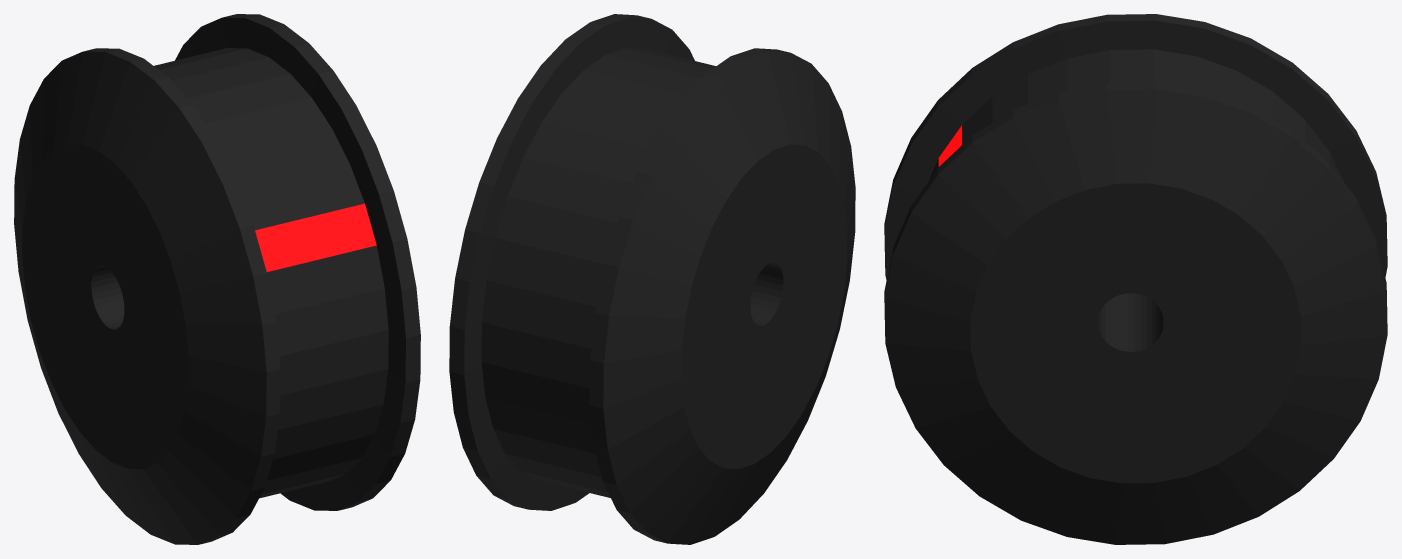
File: FFFF.fbx
The picture shows the model from 3 angles, left to right: view 1: azimuth 30°, elevation 25°; view 2: azimuth 150°, elevation 25°; view 3: azimuth 270°, elevation 25°; orthographic projection.
Visible parts, largest first — view 1: ElectricalPanel_Switch_02_low; view 2: ElectricalPanel_Switch_02_low; view 3: ElectricalPanel_Switch_02_low.
Boxes of the visible parts, bbox=[...] form: ElectricalPanel_Switch_02_low: bbox=[14, 14, 420, 544]; ElectricalPanel_Switch_02_low: bbox=[449, 14, 855, 544]; ElectricalPanel_Switch_02_low: bbox=[884, 14, 1387, 544].
Size of the model in its own units: 6.47 by 12.69 by 12.69.
